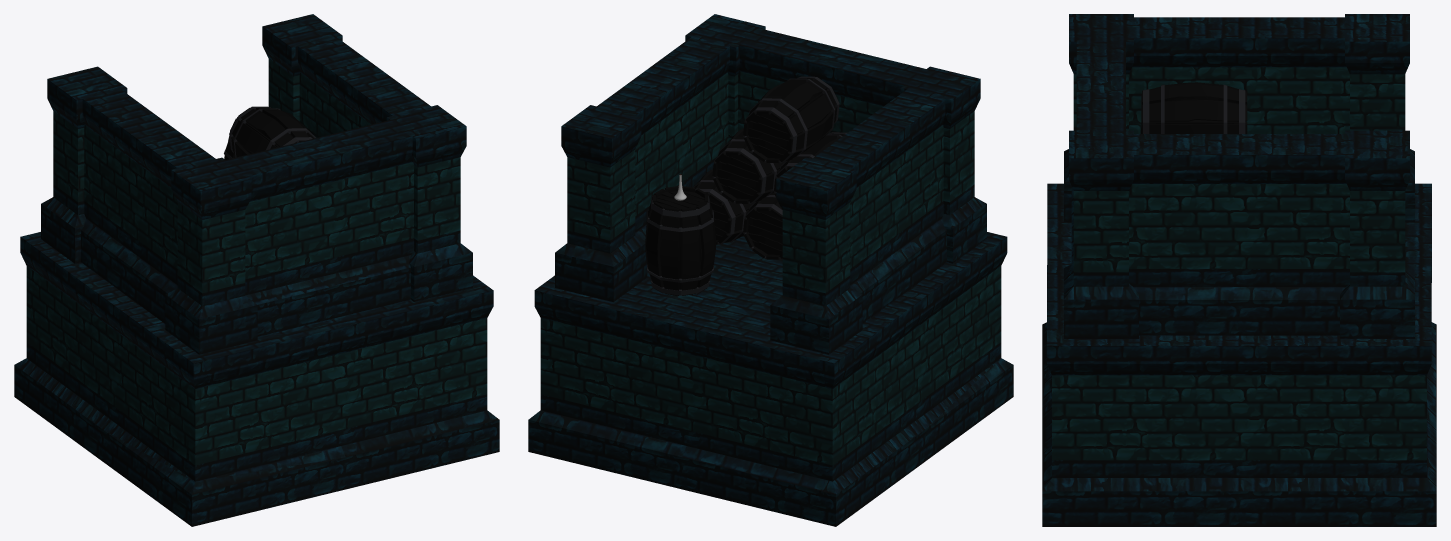
Rendered from tile-barrel.glb.
The picture shows the model from 3 angles, left to right: view 1: azimuth 30°, elevation 25°; view 2: azimuth 150°, elevation 25°; view 3: azimuth 270°, elevation 25°; orthographic projection. The views are drawn at different scales.
Parts seen in each view (by area): view 1: mergedBlocks(Clone); view 2: mergedBlocks(Clone); view 3: mergedBlocks(Clone).
Boxes of the visible parts, x1=… form: mergedBlocks(Clone): x1=14, y1=14, x2=499, y2=526; mergedBlocks(Clone): x1=528, y1=14, x2=1013, y2=526; mergedBlocks(Clone): x1=1042, y1=14, x2=1436, y2=526.
Bounding box in the file's own units: 2 × 2.01 × 2.
7 materials, 2 textured.
